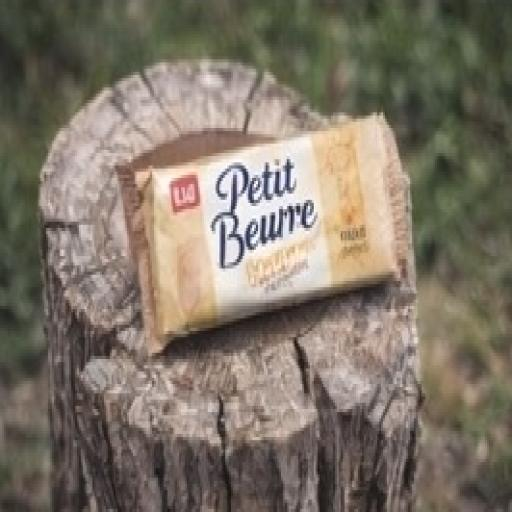petit_beurre: (102, 97, 443, 346)
